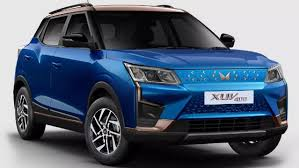XUV 400: (14, 2, 288, 165)
